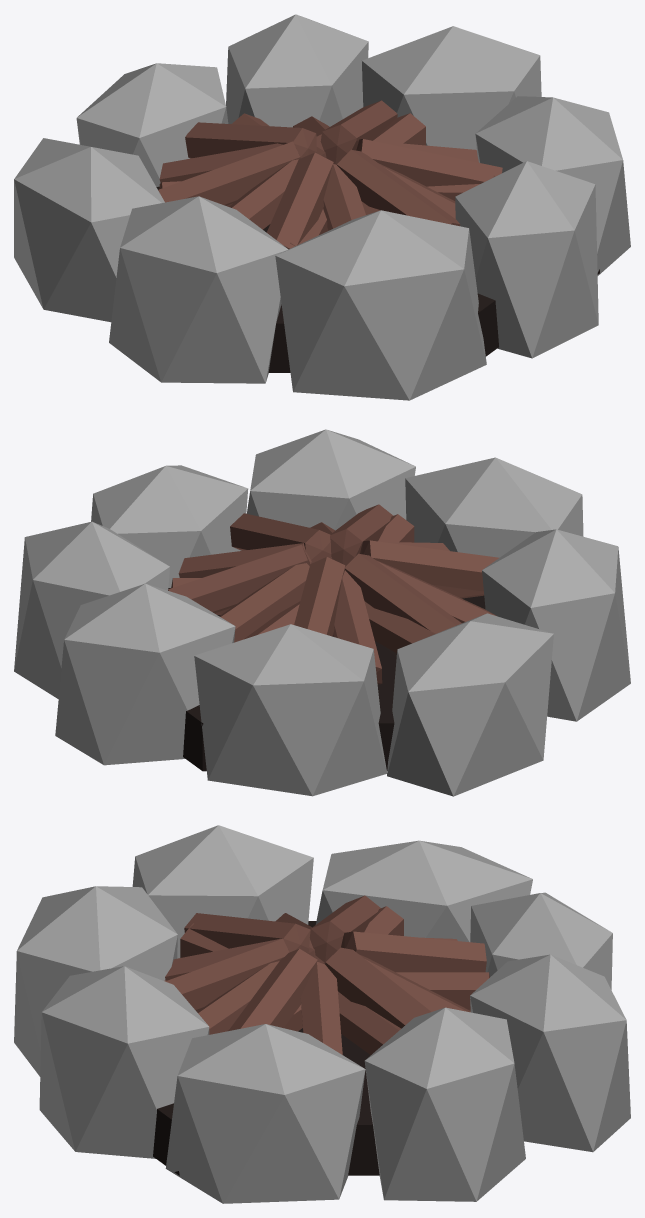
Rendered from Campfire.fbx.
3 renders of one model, top to bottom at view 1: azimuth 30°, elevation 25°; view 2: azimuth 150°, elevation 25°; view 3: azimuth 270°, elevation 25°, orthographic. The views are drawn at different scales.
Visible parts, largest first — view 1: Campfire, Log_17, Log_16, Log_15, Log_14, Log_12, Log_13, Log_6, Log_11, Log_7, Log_4, Log_9 (+1 smaller); view 2: Campfire, Log_16, Log_17, Log_13, Log_8, Log_14, Log_12, Log_7, Log_15, Log_9, Log_3, Log_6 (+2 smaller); view 3: Campfire, Log_12, Log_13, Log_14, Log_15, Log_16, Log_9, Log_17, Log_4, Log_10, Log_0, Log_8 (+3 smaller).
Boxes of the visible parts, x1,y1,x2,y2 form: Campfire: [14, 14, 630, 400]; Log_17: [158, 141, 300, 205]; Log_16: [266, 152, 333, 249]; Log_15: [336, 149, 460, 226]; Log_14: [356, 139, 502, 186]; Log_12: [185, 122, 316, 158]; Log_13: [320, 100, 397, 164]; Log_6: [229, 159, 298, 229]; Log_11: [323, 164, 365, 230]; Log_7: [159, 143, 282, 182]; Log_4: [373, 113, 425, 145]; Log_9: [352, 140, 478, 162]; Campfire: [14, 429, 630, 796]; Log_16: [360, 540, 499, 592]; Log_17: [345, 553, 461, 633]; Log_13: [168, 545, 310, 613]; Log_8: [219, 563, 309, 642]; Log_14: [230, 513, 331, 562]; Log_12: [294, 557, 345, 636]; Log_7: [333, 570, 382, 684]; Log_15: [330, 504, 393, 565]; Log_9: [178, 543, 312, 577]; Log_3: [364, 601, 435, 653]; Log_6: [376, 560, 496, 623]; Campfire: [14, 825, 630, 1203]; Log_12: [341, 931, 486, 972]; Log_13: [325, 947, 430, 1028]; Log_14: [228, 948, 318, 1031]; Log_15: [165, 938, 289, 1011]; Log_16: [184, 913, 310, 953]; Log_9: [300, 961, 342, 1054]; Log_17: [309, 895, 380, 962]; Log_4: [338, 991, 400, 1054]; Log_10: [197, 961, 279, 1034]; Log_0: [396, 972, 489, 1010]; Log_8: [359, 954, 470, 1012].
Bounding box in the file's own units: 2.18 × 0.6412 × 2.21.
1 material, 1 textured.
